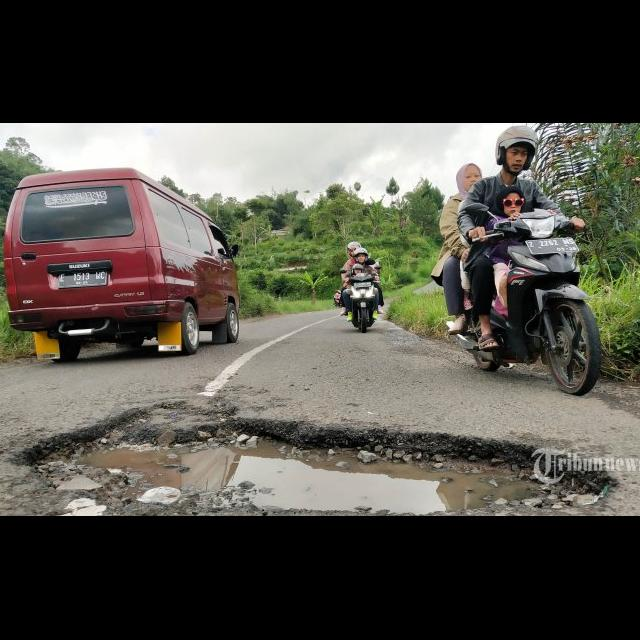lubang_kecil: (32, 400, 612, 516)
